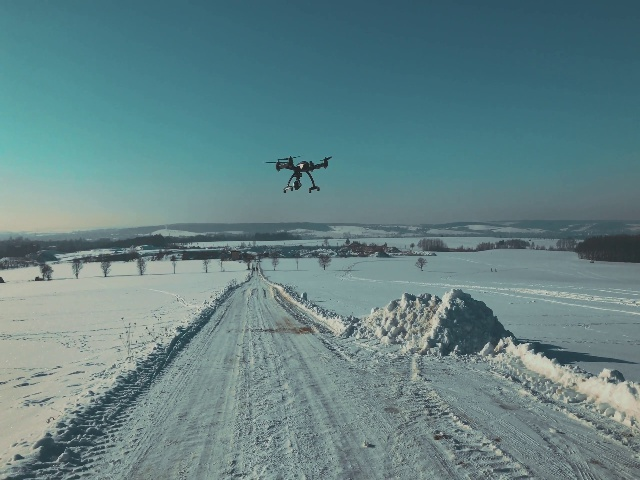drone: (261, 154, 333, 193)
